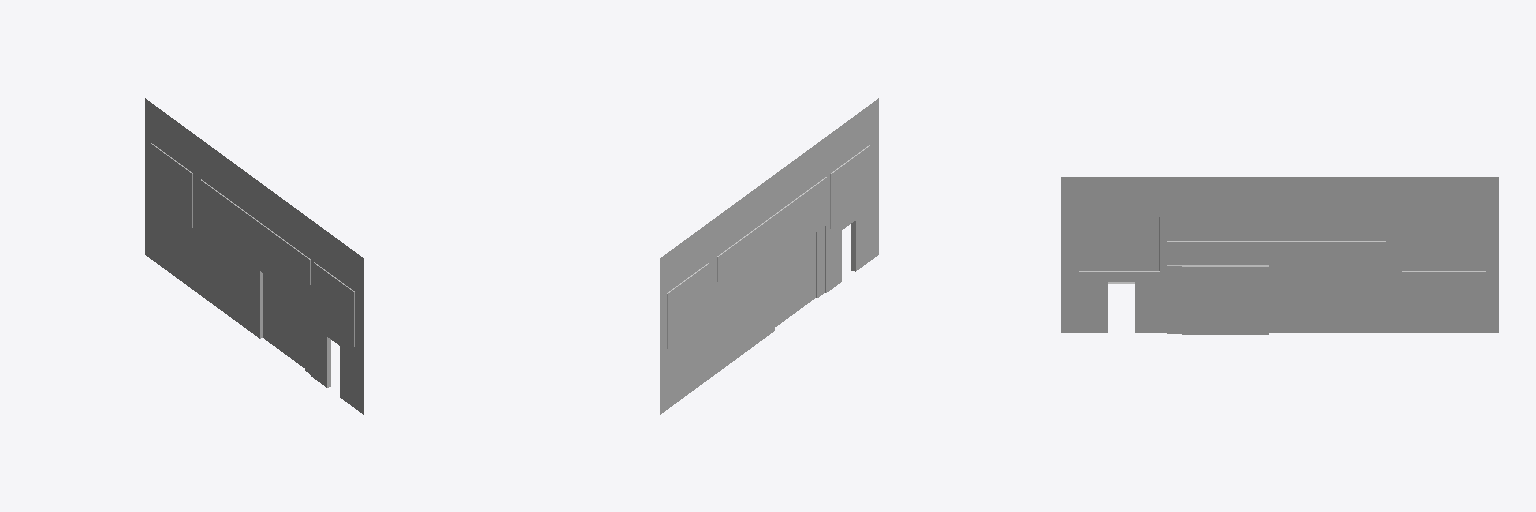
Rendered from WallC.obj.
The picture shows the model from 3 angles: view 1: azimuth 30°, elevation 25°; view 2: azimuth 150°, elevation 25°; view 3: azimuth 270°, elevation 25°; orthographic projection.
Parts seen in each view (by area): view 1: WallCUpdate; view 2: WallCUpdate; view 3: WallCUpdate.
Part boxes in pixels (x1,y1,x2,y2): WallCUpdate: (145, 98, 363, 414); WallCUpdate: (660, 98, 878, 414); WallCUpdate: (1061, 177, 1498, 334).
Bounding box in the file's own units: 0.2771 × 7.65 × 19.39.